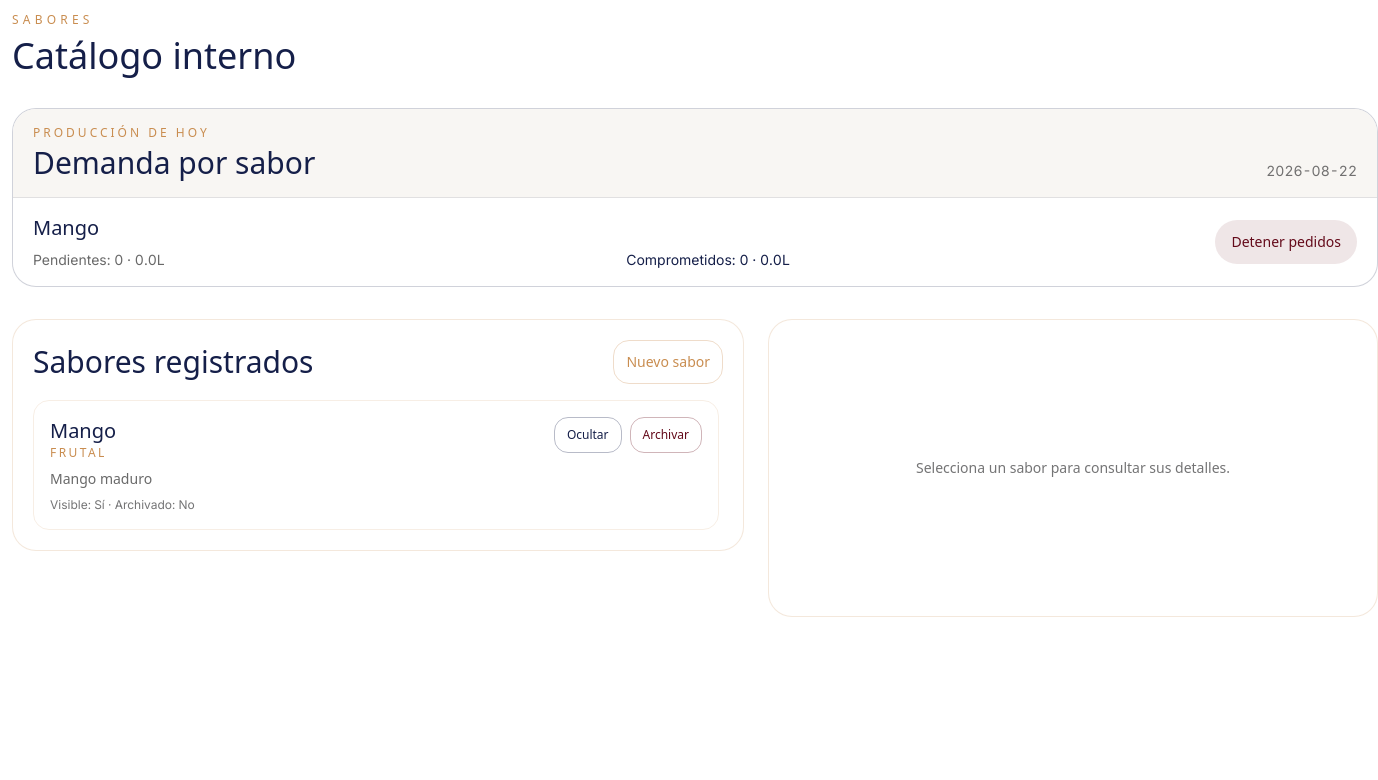
it: AdminFlavorsPage production demand › hides the stored price for an unavailable presentation
Click the button "Mango Frutal" at (83, 430), box [50, 417, 542, 461]
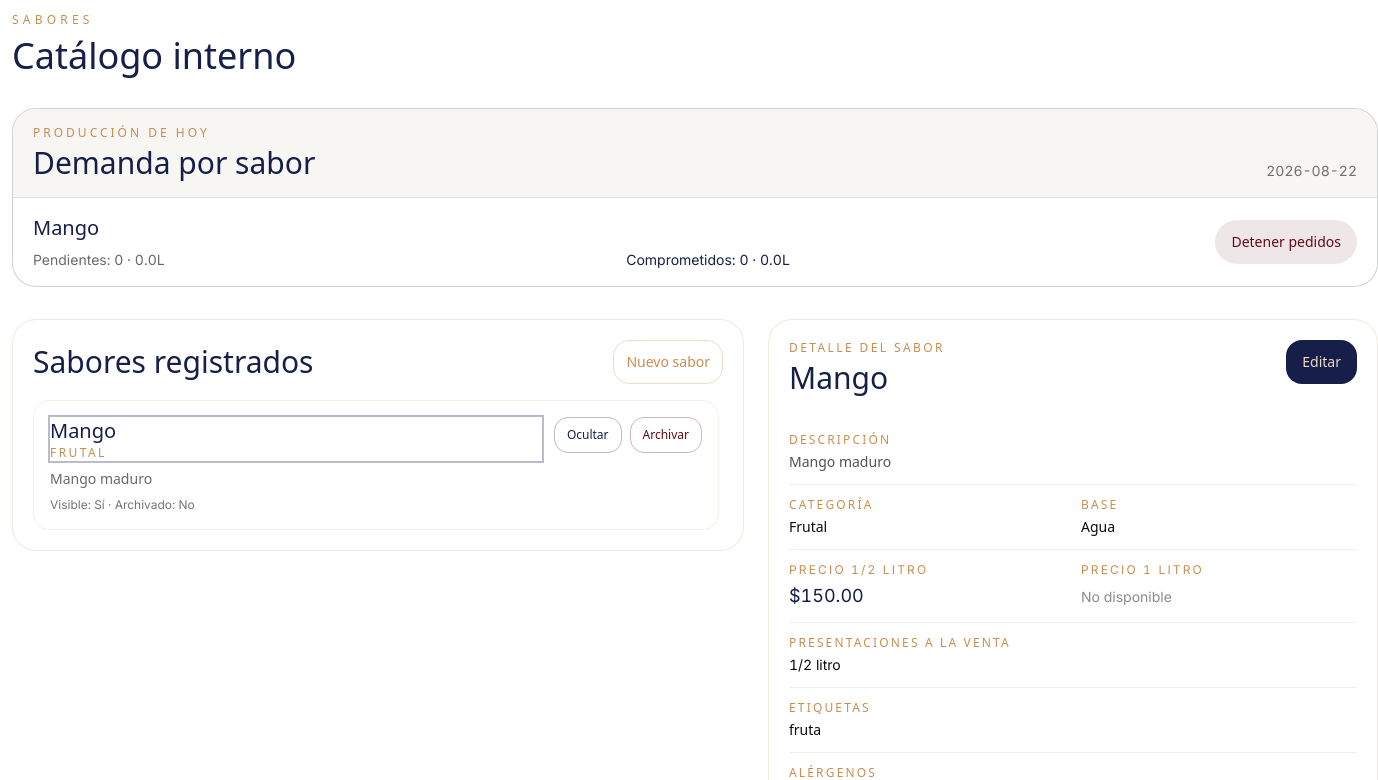
Check: the text "$150.00" is shown, box [789, 585, 864, 606]
Check: the text "No disponible" is shown, box [1081, 588, 1172, 605]
